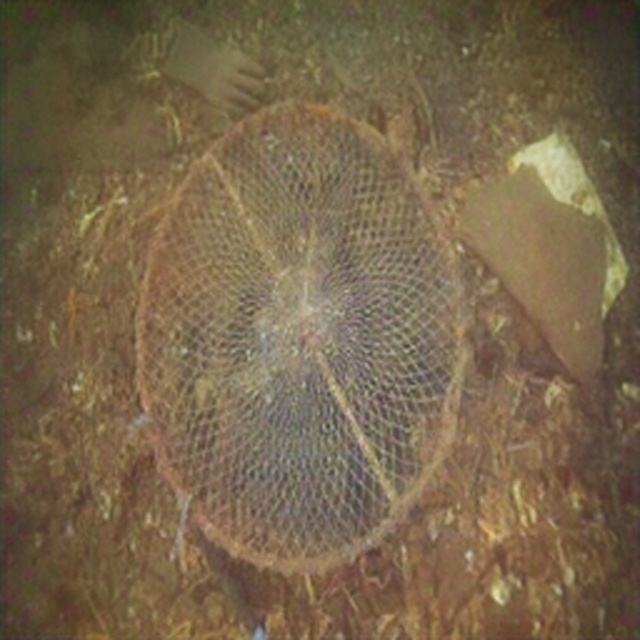mine: (136, 98, 467, 574)
